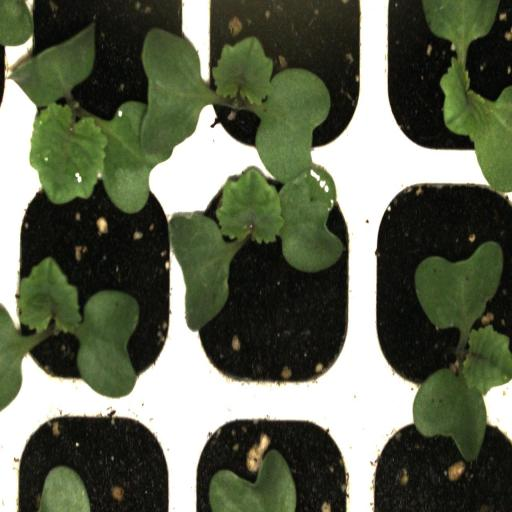Folha: (13, 26, 344, 331), (208, 449, 297, 512), (38, 465, 91, 512), (0, 0, 34, 47)
Germinacao: (182, 164, 363, 394), (12, 162, 181, 396), (365, 166, 512, 406), (16, 1, 194, 165), (193, 0, 373, 161), (373, 0, 512, 167)
